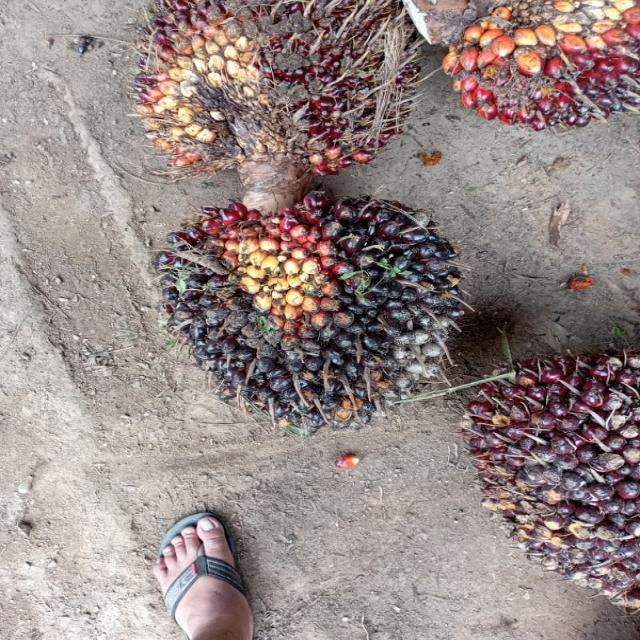fraksi 00: (139, 189, 477, 430)
fraksi 1: (134, 1, 399, 197), (446, 347, 640, 612)
